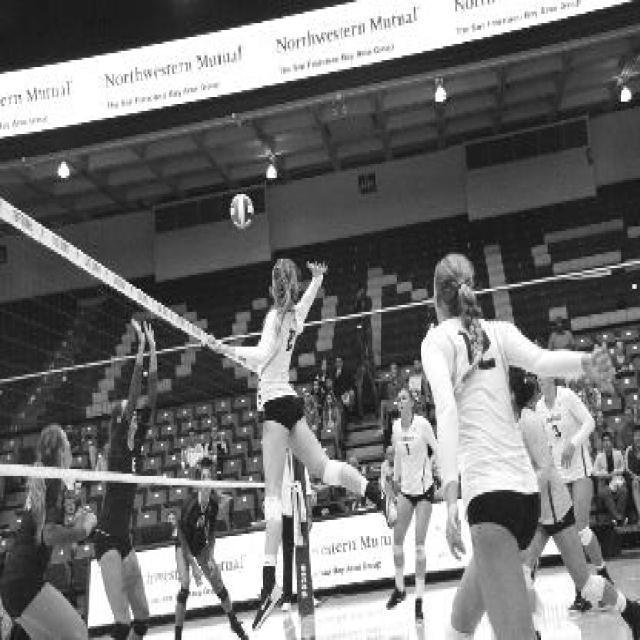volleyball: (230, 193, 256, 228)
